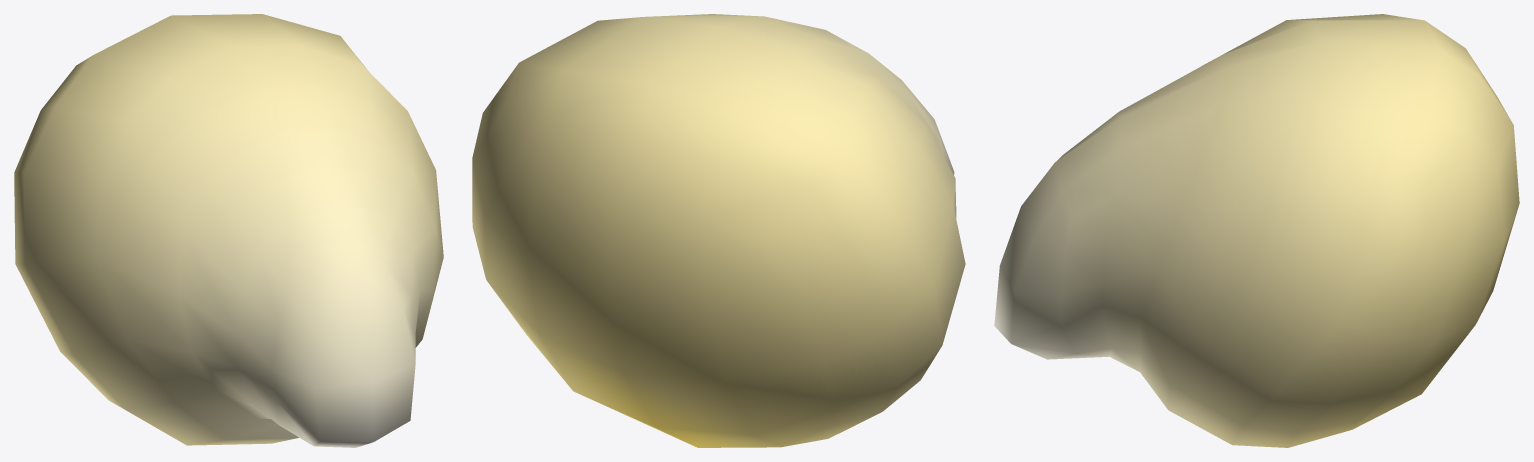
File: Glue.fbx
3 views of the same model, side by side, from view 1: azimuth 30°, elevation 25°; view 2: azimuth 150°, elevation 25°; view 3: azimuth 270°, elevation 25° (orthographic). The views are drawn at different scales.
Visible parts, largest first — view 1: Glue_LOD0; view 2: Glue_LOD0; view 3: Glue_LOD0.
Boxes of the visible parts, bbox=[...] form: Glue_LOD0: bbox=[14, 14, 443, 447]; Glue_LOD0: bbox=[472, 14, 965, 447]; Glue_LOD0: bbox=[994, 14, 1519, 447].
Size of what is drawn, in the model's own units: 0.2751 by 0.2461 by 0.3044.
